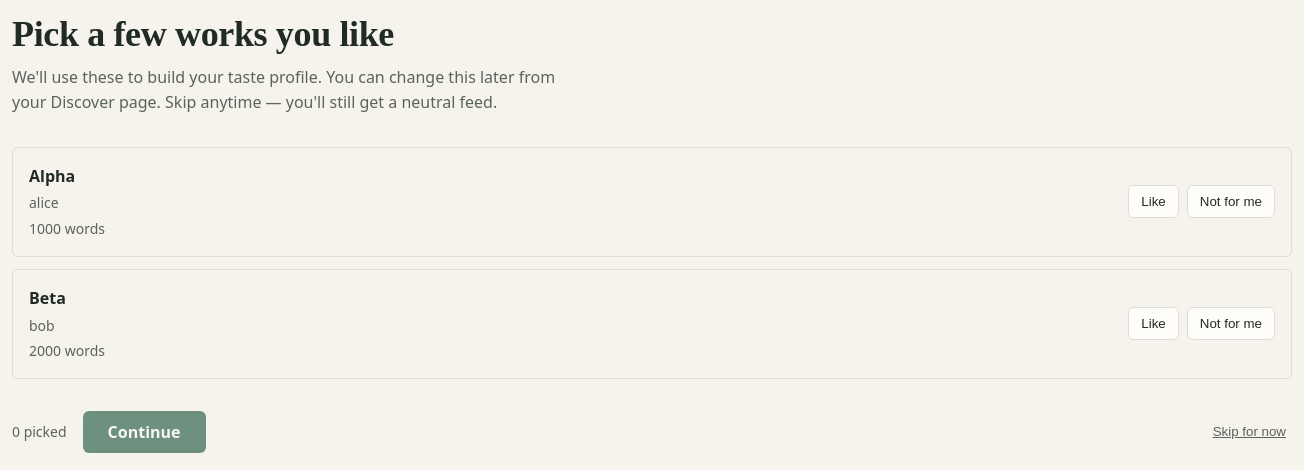
Scenario: Quiz onboarding page › toggles the Like button on click and shows the count
Check: the text "Alpha" is shown, box [29,165,75,187]
Click the button "Like" in the row of "alice" at (1154, 202), box [1128,185,1179,218]
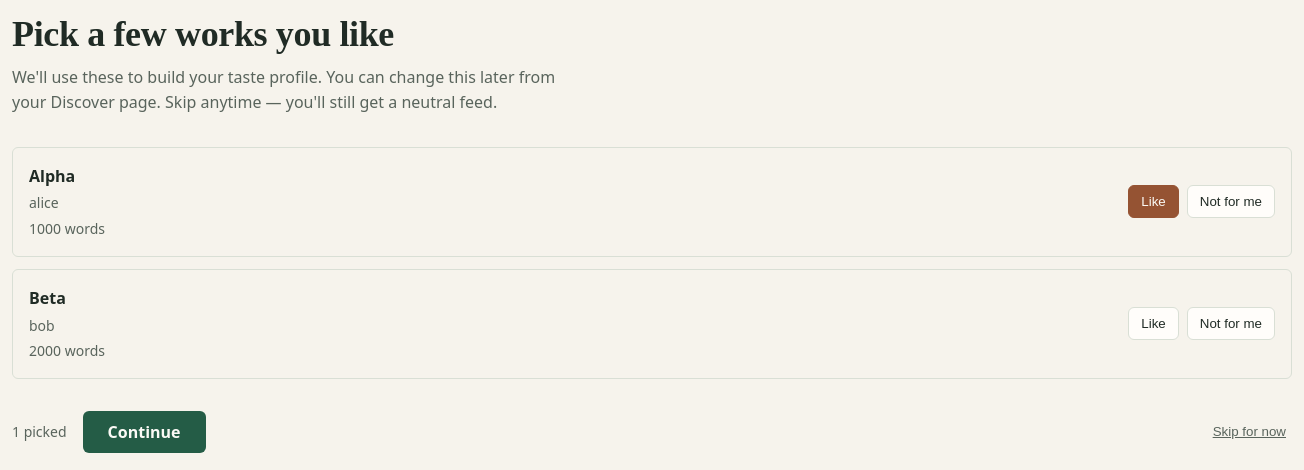
Check: the text "1 picked" is shown, box [12,421,67,443]
